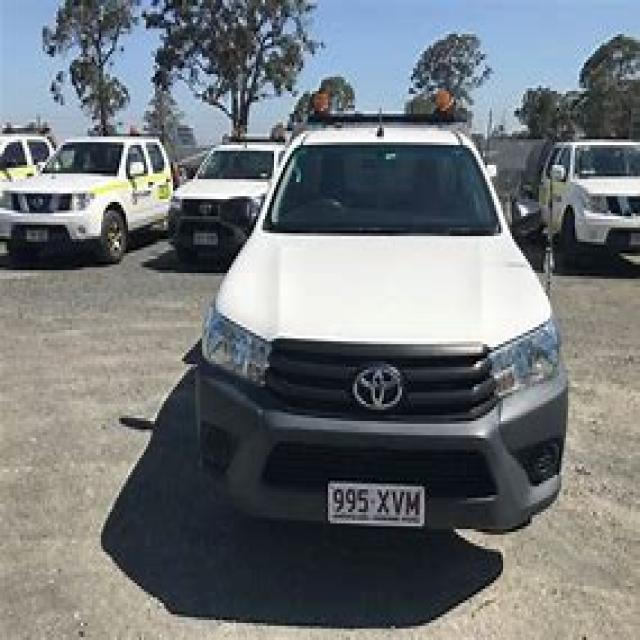light_vehicle: (191, 97, 570, 552), (0, 116, 171, 268)
